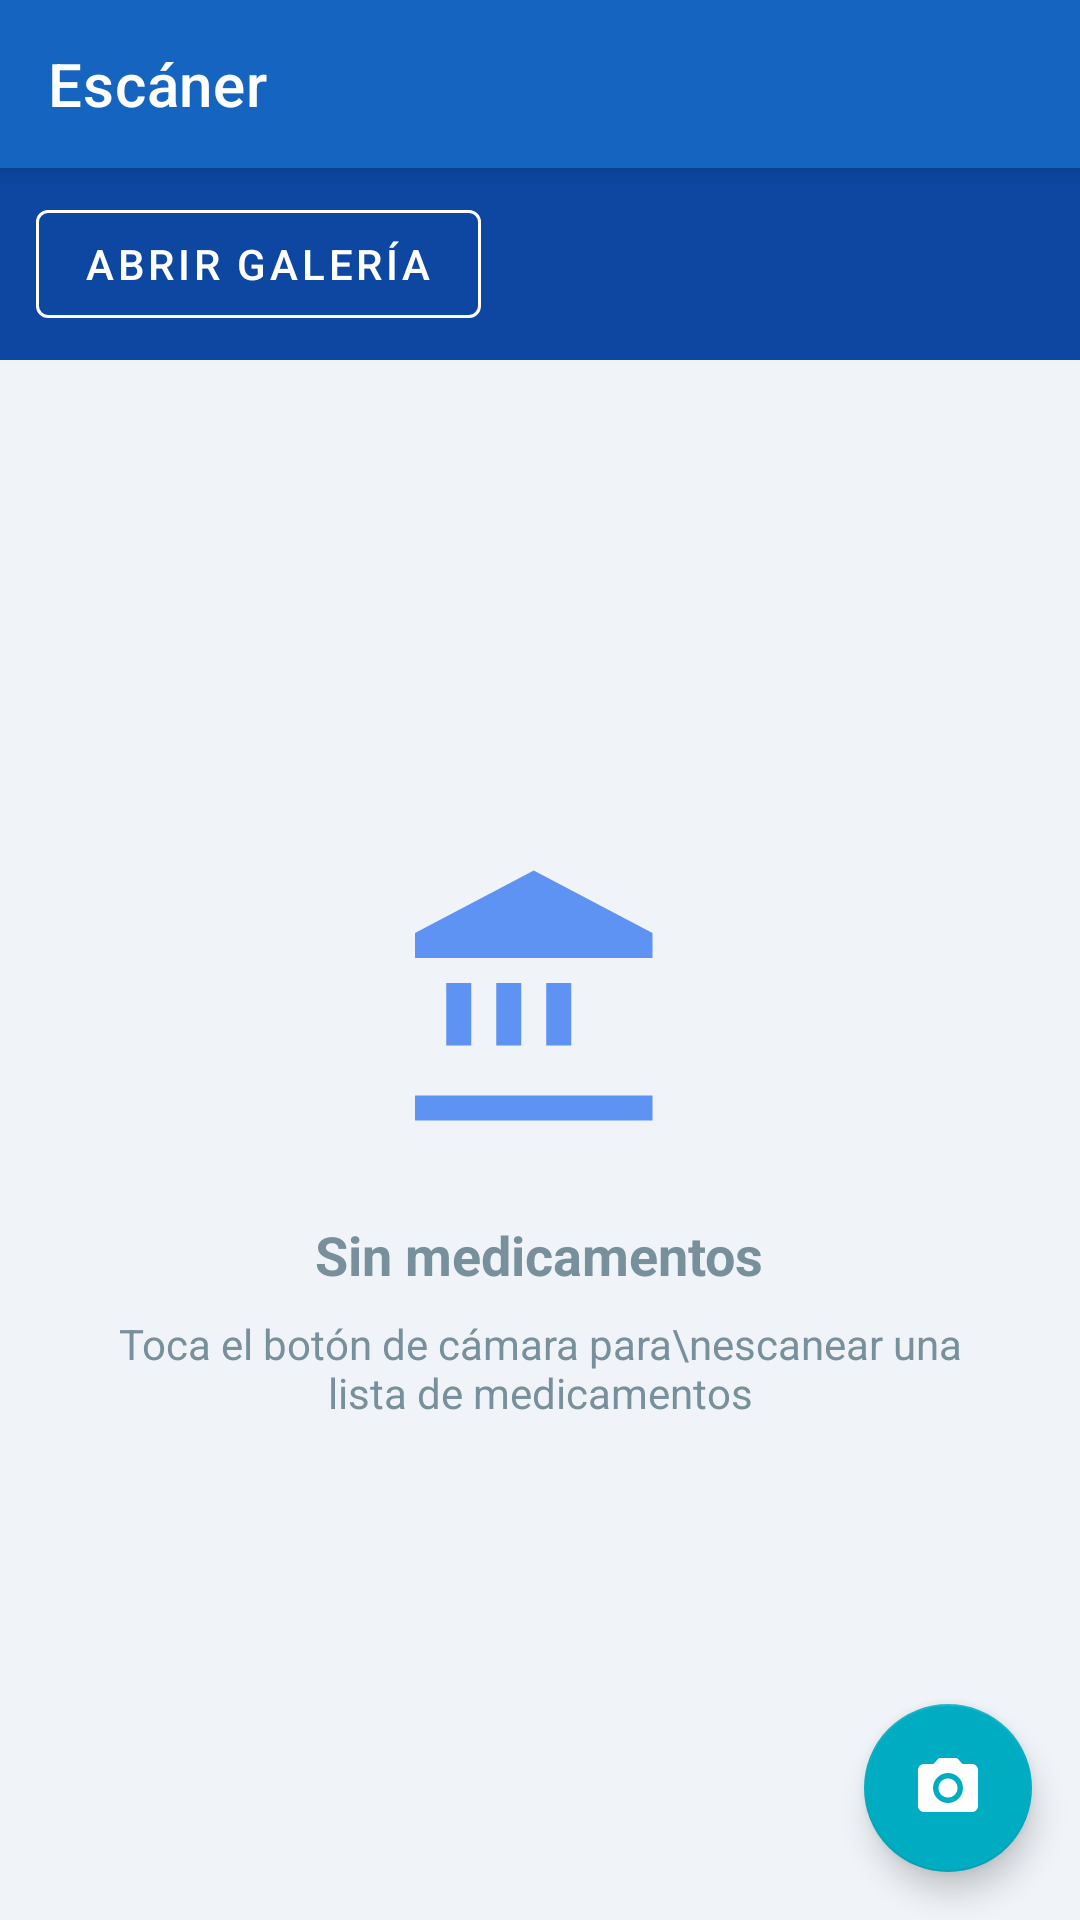

Icons on this 1080px x 1920px Android screen, each with the point to tap as [x,y]:
Tomar foto: [948,1788]
